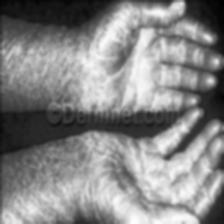Non-Cancerous Skin Condition: (105, 20, 174, 104), (96, 136, 176, 208)
